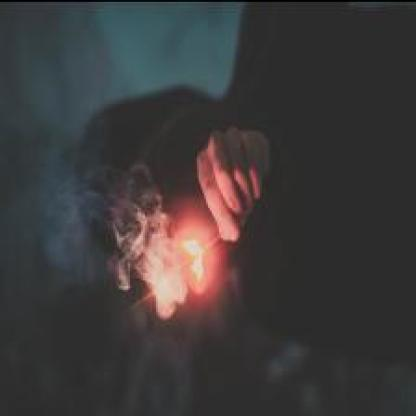Fire: (183, 231, 205, 280)
Smoke: (149, 250, 178, 304)
